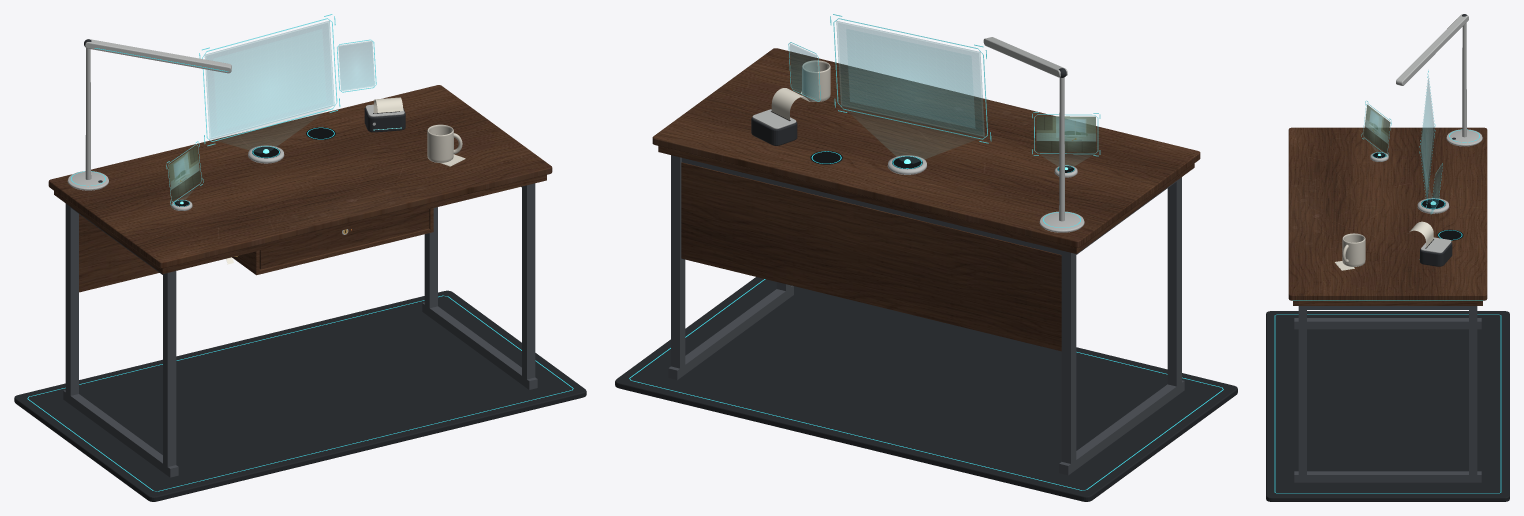
Rendered from rec-escrivaninha-gabinete.glb.
The picture shows the model from 3 angles, left to right: view 1: azimuth 30°, elevation 25°; view 2: azimuth 150°, elevation 25°; view 3: azimuth 270°, elevation 25°; orthographic projection. The views are drawn at different scales.
Visible parts, largest first — view 1: base_peca, tampo, monitor_holo_painel, monitor_area_texto, gaveta_frente, painel_traseiro, base_montante_frente_esq, base_montante_frente_dir, base_montante_tras_esq, tampo_borda_frente, base_patim_esq, base_patim_dir (+12 smaller); view 2: base_peca, tampo, painel_traseiro, monitor_holo_painel, base_montante_tras_esq, monitor_feixe, base_montante_frente_esq, tampo_borda_tras, base_montante_tras_dir, base_patim_dir, base_patim_esq, porta_retrato_foto (+9 smaller); view 3: base_peca, tampo, base_patim_dir, base_patim_esq, base_montante_frente_dir, base_montante_tras_dir, base_peca_linha, luminaria_barra, monitor_holo_painel, tampo_borda_direita, porta_retrato_foto, caneca_corpo (+7 smaller).
Part boxes in pixels (x1,y1,x2,y2): base_peca: (14,290,586,501); tampo: (48,85,552,268); monitor_holo_painel: (205,21,334,139); monitor_area_texto: (214,29,325,130); gaveta_frente: (259,209,429,269); painel_traseiro: (79,214,159,292); base_montante_frente_esq: (163,271,176,466); base_montante_frente_dir: (522,183,535,379); base_montante_tras_esq: (65,203,78,395); tampo_borda_frente: (159,175,546,274); base_patim_esq: (63,390,178,477); base_patim_dir: (422,302,537,389); base_peca: (615,277,1237,501); tampo: (652,48,1200,247); painel_traseiro: (681,162,1061,351); monitor_holo_painel: (836,21,984,136); base_montante_tras_esq: (1061,250,1076,463); monitor_feixe: (843,106,981,162); base_montante_frente_esq: (1167,177,1181,386); tampo_borda_tras: (658,146,1079,253); base_montante_tras_dir: (671,155,685,368); base_patim_dir: (668,285,793,379); base_patim_esq: (1059,380,1184,475); porta_retrato_foto: (1036,116,1096,152); base_peca: (1266,311,1509,501); tampo: (1288,127,1487,300); base_patim_dir: (1294,471,1481,482); base_patim_esq: (1294,318,1481,329); base_montante_frente_dir: (1298,306,1306,474); base_montante_tras_dir: (1469,306,1477,474); base_peca_linha: (1274,314,1501,493); luminaria_barra: (1396,14,1468,85); monitor_holo_painel: (1421,77,1434,197); tampo_borda_direita: (1298,301,1477,305); porta_retrato_foto: (1363,104,1390,153); caneca_corpo: (1342,233,1365,266).
Size of the model in its own units: 1.56 by 1.25 by 0.86.
Materials: 25 (4 with a texture image).
